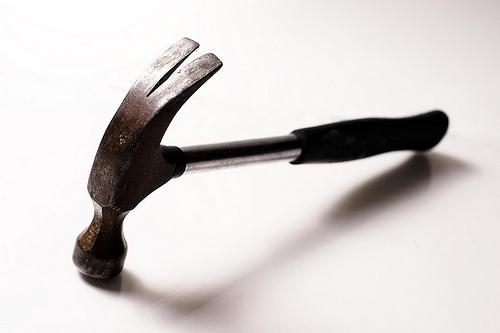hammer: (70, 34, 451, 280)
